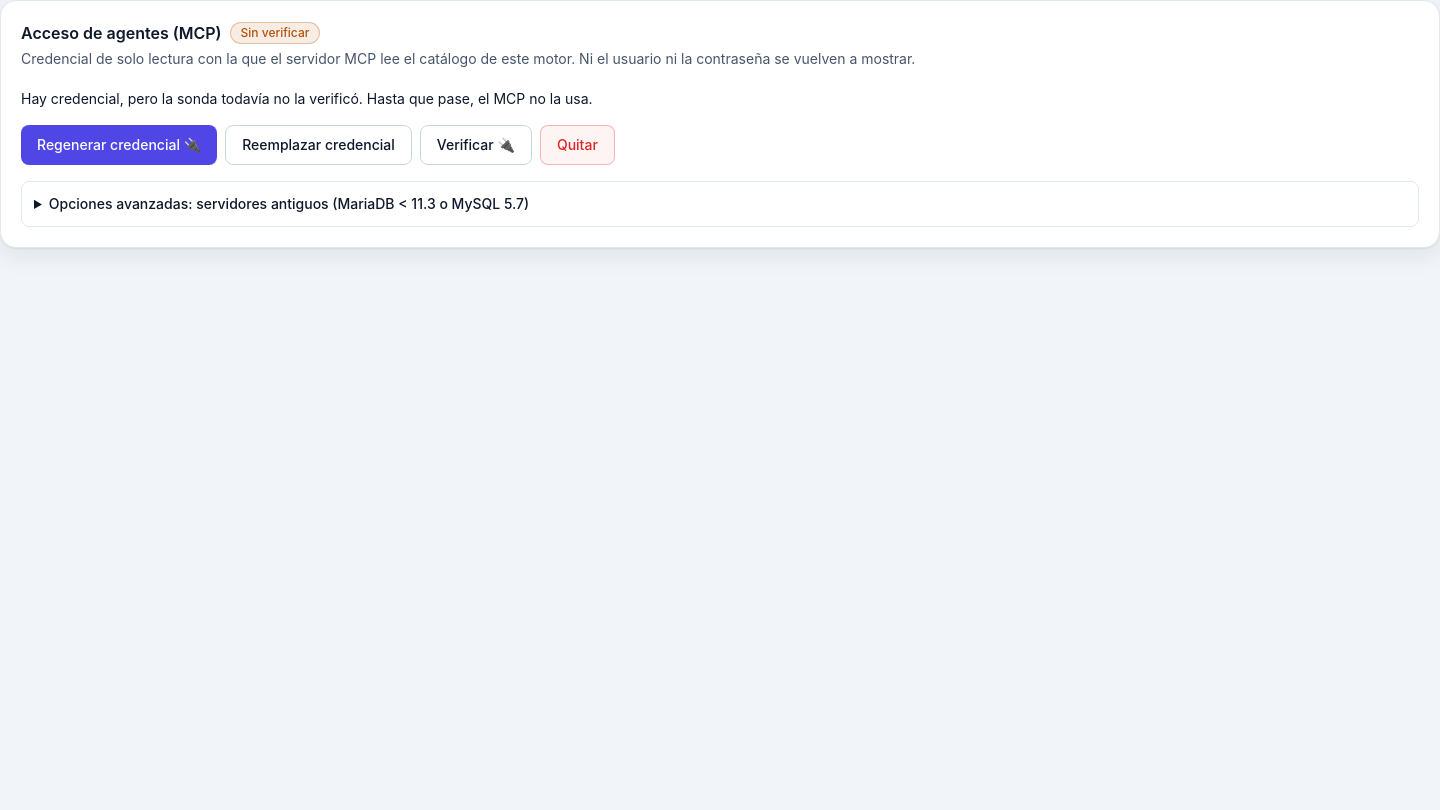
Test: ReadonlyCredentialPanel — acciones › la sonda fallida lista los grants de más para el DBA
Click the button "Verificar 🔌".
click(476, 145)  # box [420,125,532,165]
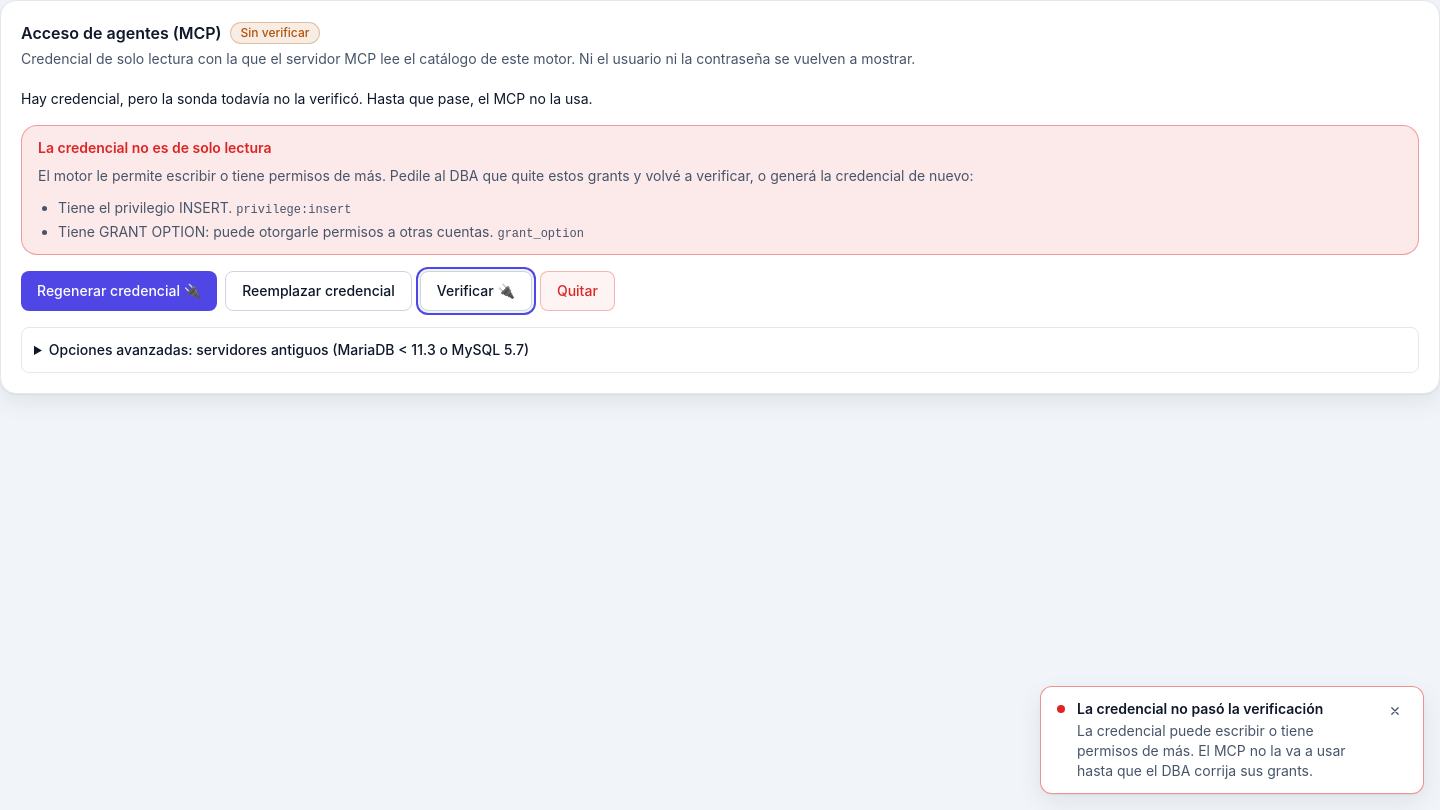
Expected: the list item "Tiene el privilegio INSERT. privilege:insert" is shown, [58,199,351,217]
Expected: the text "privilege:insert" is shown, [236,203,351,217]
Expected: the list item "GRANT OPTION" is shown, [58,223,494,240]
